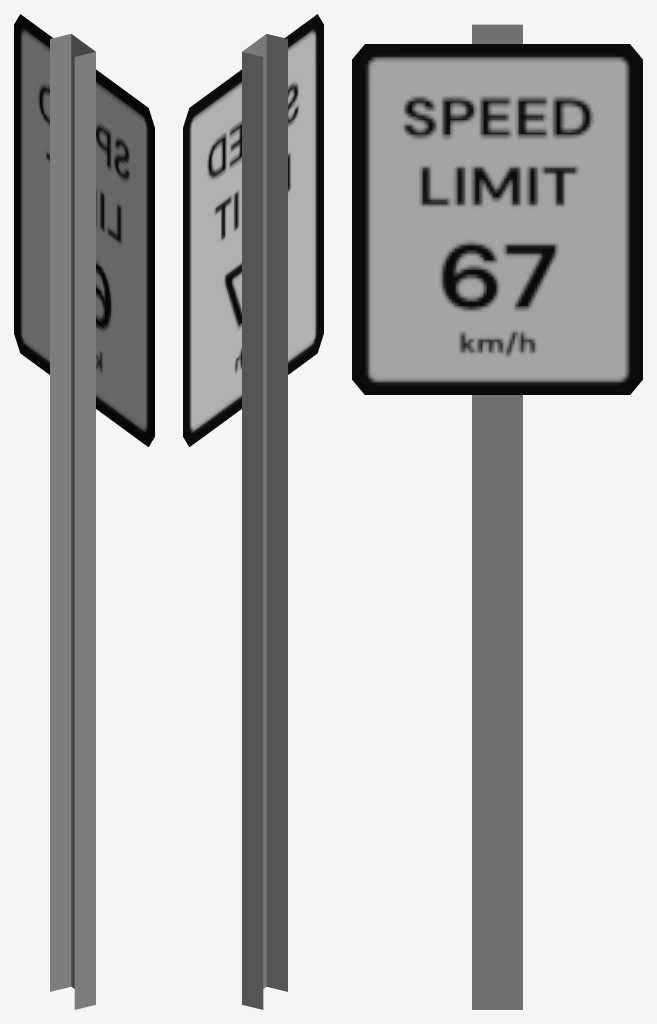
Rendered from sign_speedlimit.fbx.
3 views of the same model, side by side, from view 1: azimuth 30°, elevation 25°; view 2: azimuth 150°, elevation 25°; view 3: azimuth 270°, elevation 25° (orthographic). The views are drawn at different scales.
Visible parts, largest first — view 1: Sign_Rectangle.001; view 2: Sign_Rectangle.001; view 3: Sign_Rectangle.001.
Part boxes in pixels (x1,y1,x2,y2): Sign_Rectangle.001: [14, 14, 154, 1009]; Sign_Rectangle.001: [183, 14, 323, 1009]; Sign_Rectangle.001: [352, 24, 642, 1009].
Size of the model in its own units: 5.18 by 213 by 57.1.
Materials: 2 (1 with a texture image).
